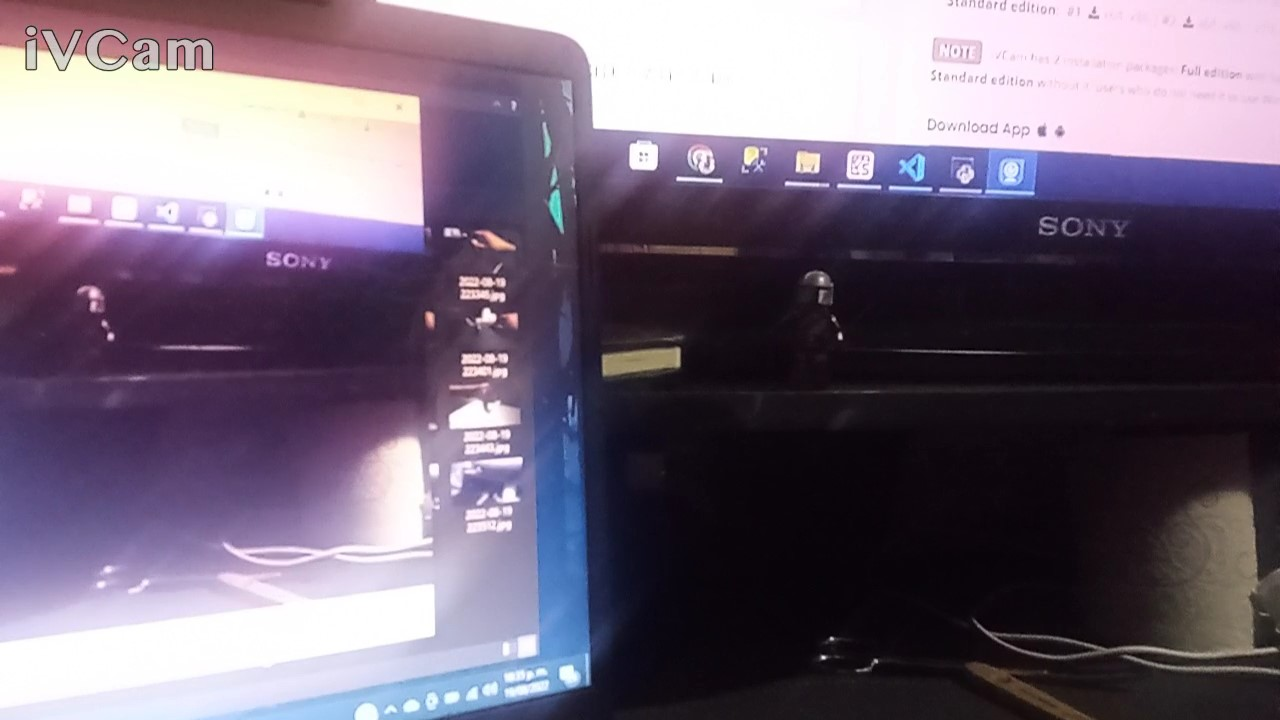mandalorian: (783, 262, 854, 408)
